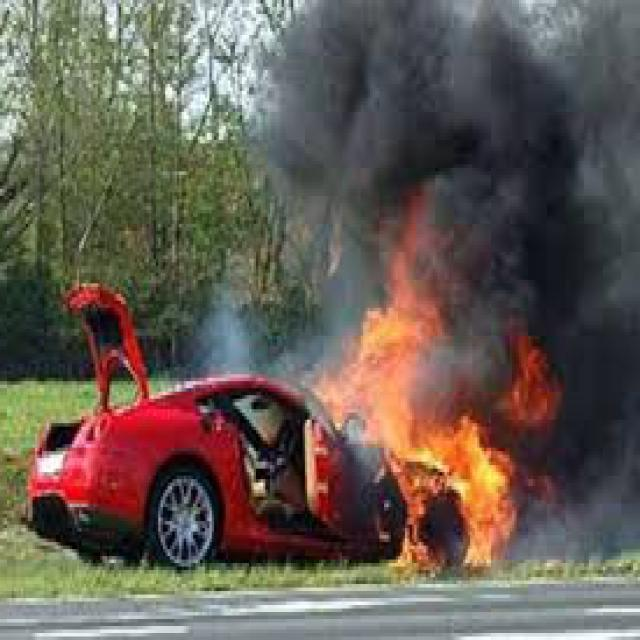Fire: (306, 228, 568, 572)
Smoke: (258, 5, 634, 350)
